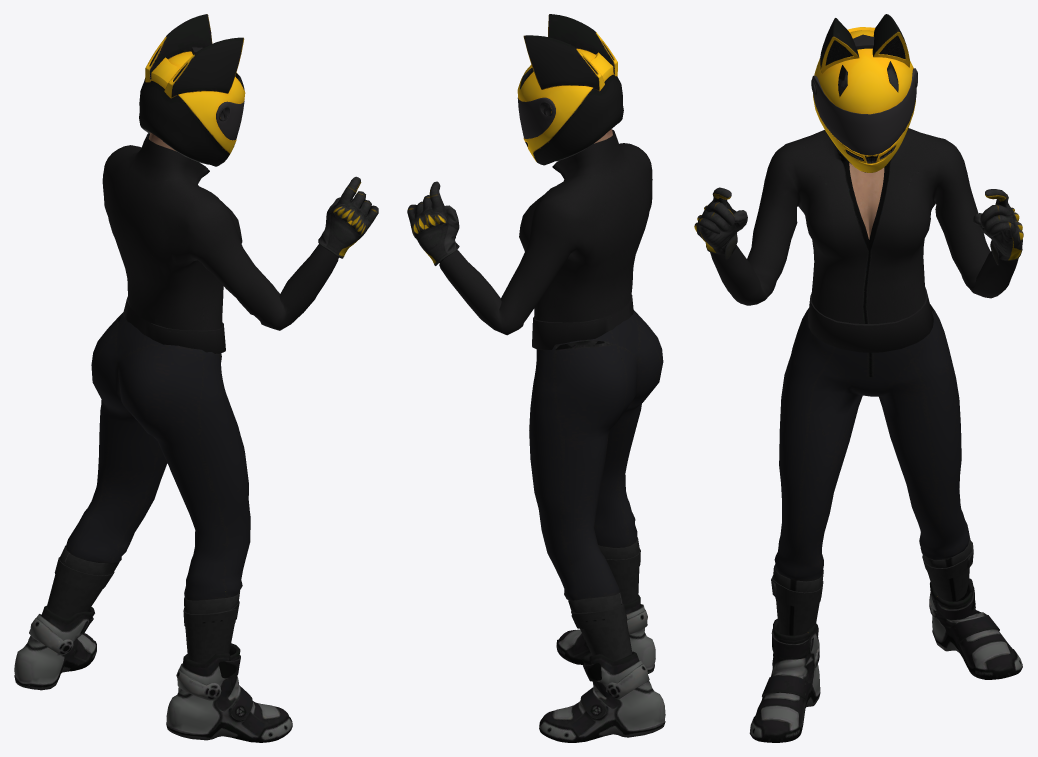
The model's file is girl.glb.
3 renders of one model, left to right at view 1: azimuth 30°, elevation 25°; view 2: azimuth 150°, elevation 25°; view 3: azimuth 270°, elevation 25°, orthographic. The views are drawn at different scales.
Parts seen in each view (by area): view 1: Mesh_0000.rip; view 2: Mesh_0000.rip; view 3: Mesh_0000.rip.
Boxes of the visible parts, x1,y1,x2,y2 form: Mesh_0000.rip: [14, 14, 378, 742]; Mesh_0000.rip: [407, 14, 665, 742]; Mesh_0000.rip: [694, 14, 1023, 742].
Size of the model in its own units: 1.93 by 5.08 by 2.14.
1 material, 1 textured.
